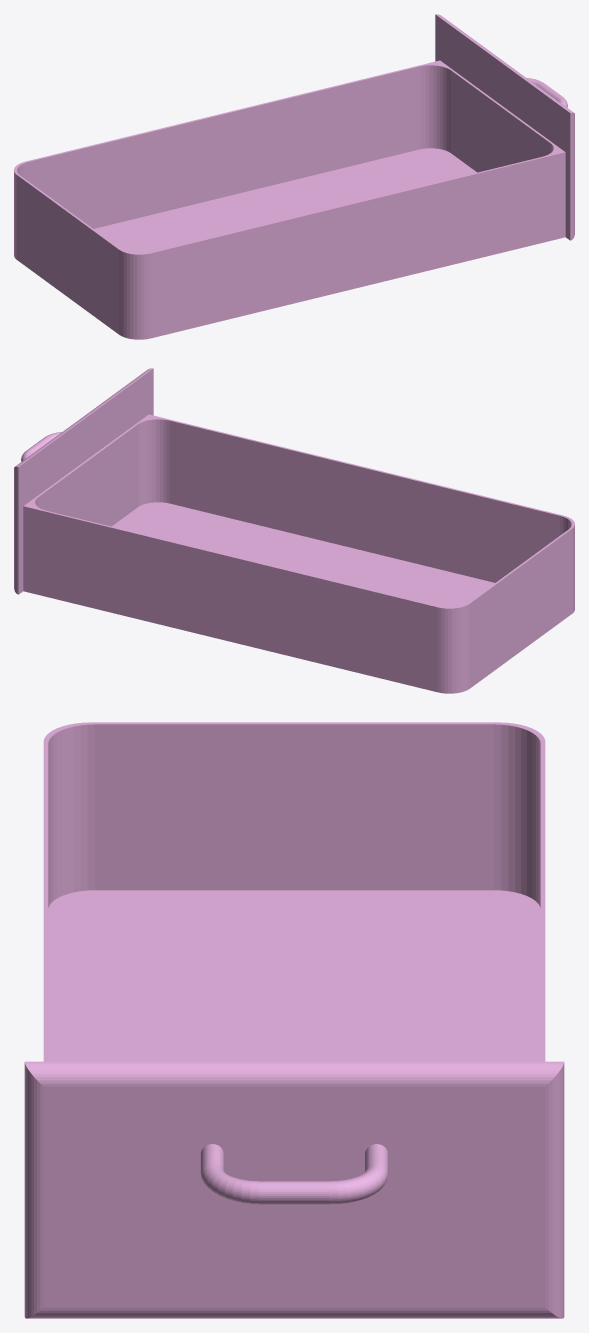
File: kjar.dae
The picture shows the model from 3 angles, top to bottom: view 1: azimuth 30°, elevation 25°; view 2: azimuth 150°, elevation 25°; view 3: azimuth 270°, elevation 25°; orthographic projection. The views are drawn at different scales.
Visible parts, largest first — view 1: Kjar; view 2: Kjar; view 3: Kjar.
Boxes of the visible parts, left/top/right/bottom form: Kjar: left=14, top=14, right=574, bottom=339; Kjar: left=14, top=368, right=574, bottom=693; Kjar: left=24, top=722, right=564, bottom=1318.
Bounding box in the file's own units: 0.2398 × 0.115 × 0.06.
